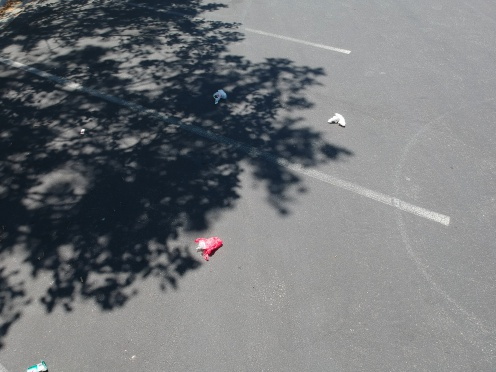plastic bag: (188, 226, 225, 261), (208, 86, 230, 106)
